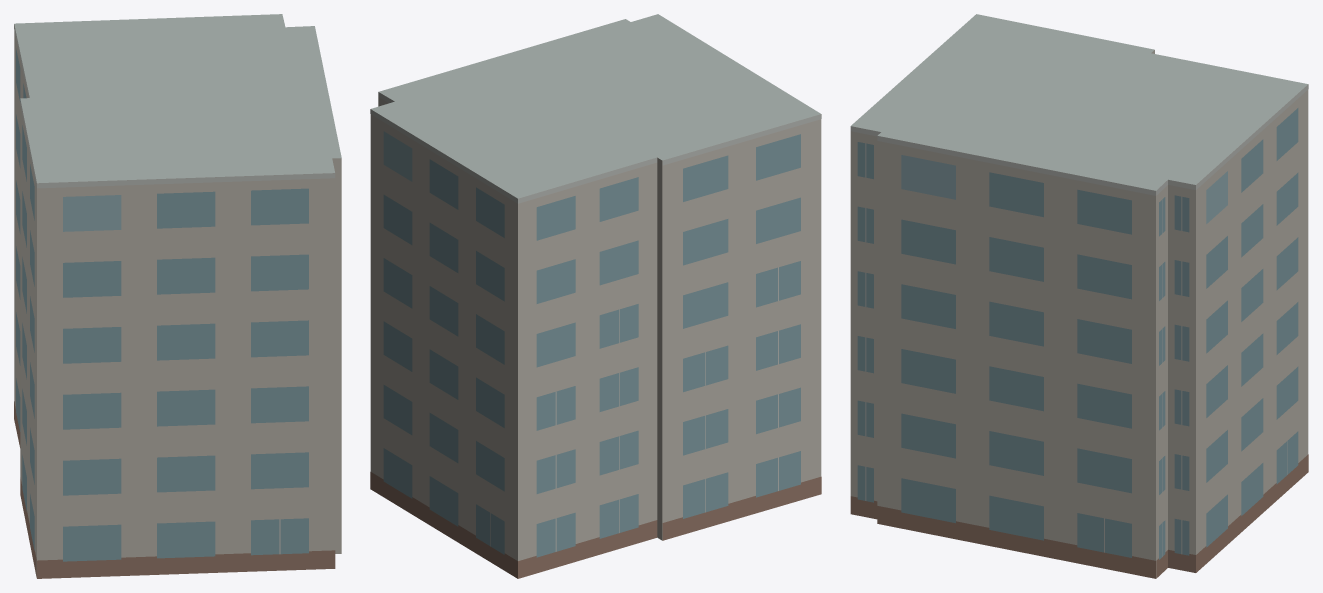
The model's file is survey-upis-32669265.glb.
3 renders of one model, left to right at view 1: azimuth 30°, elevation 25°; view 2: azimuth 150°, elevation 25°; view 3: azimuth 270°, elevation 25°, orthographic. The views are drawn at different scales.
Visible parts, largest first — view 1: survey-upis-32669265.tmp; view 2: survey-upis-32669265.tmp; view 3: survey-upis-32669265.tmp.
Part boxes in pixels (left/top/right/bottom): survey-upis-32669265.tmp: left=14, top=14, right=341, bottom=578; survey-upis-32669265.tmp: left=370, top=14, right=821, bottom=578; survey-upis-32669265.tmp: left=850, top=14, right=1308, bottom=578.
Bounding box in the file's own units: 17.9 × 18.3 × 19.58.
